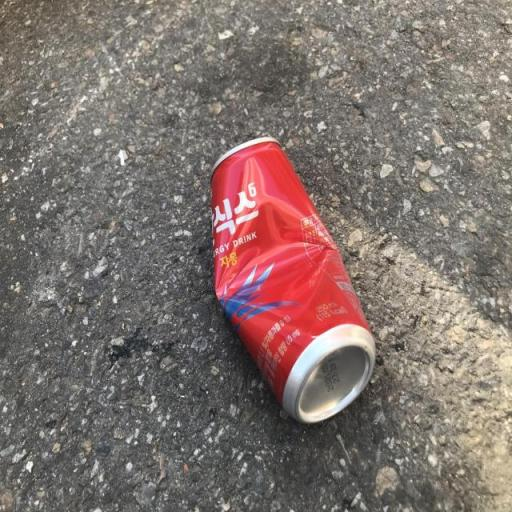metal: (177, 105, 419, 465)
